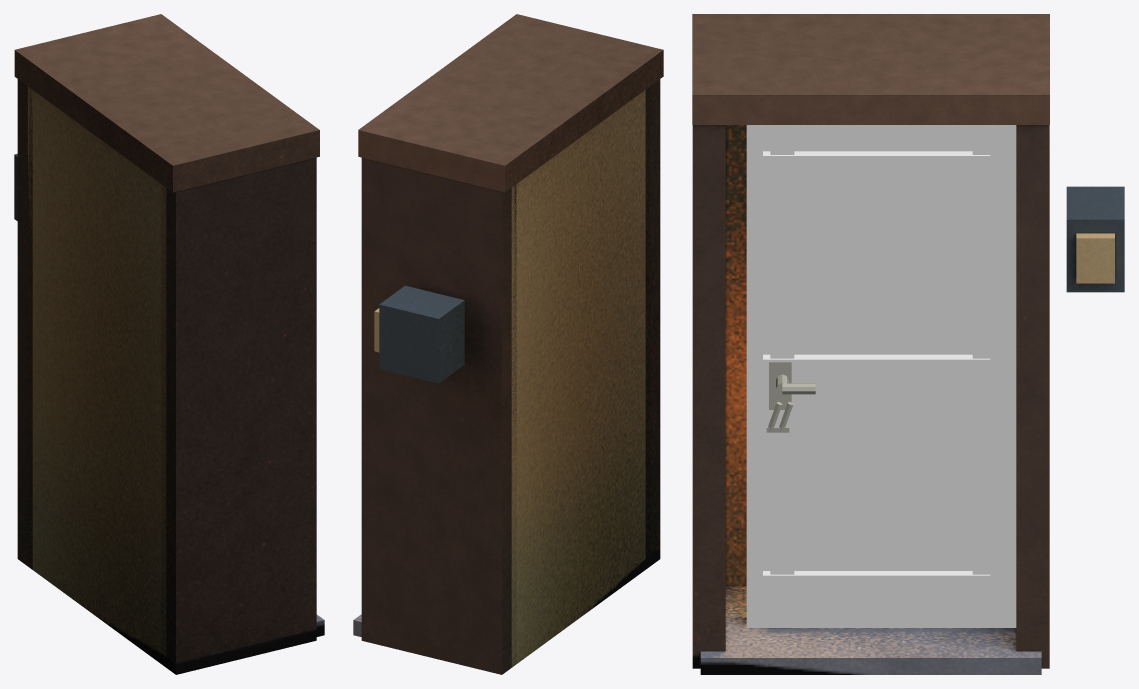
Rendered from door.glb.
3 views of the same model, side by side, from view 1: azimuth 30°, elevation 25°; view 2: azimuth 150°, elevation 25°; view 3: azimuth 270°, elevation 25° (orthographic). The views are drawn at different scales.
Visible parts, largest first — view 1: DoorFrame; view 2: DoorFrame; view 3: DoorLeaf, DoorFrame.
Boxes of the visible parts, box(x1,y1,x2,y2) form: DoorFrame: box(14, 14, 324, 674); DoorFrame: box(353, 14, 663, 674); DoorLeaf: box(746, 125, 1016, 627); DoorFrame: box(692, 14, 1124, 674).
Size of the model in its own units: 0.73 by 2.29 by 1.56.
4 materials, 1 textured.
